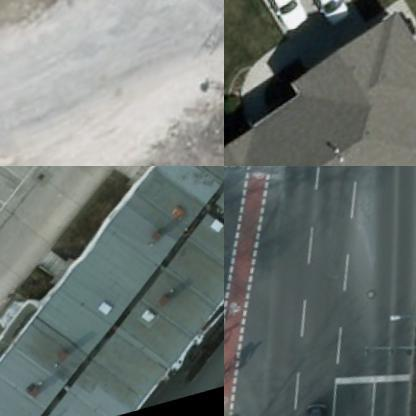car: (251, 0, 311, 41), (299, 0, 351, 35), (293, 400, 332, 415)
